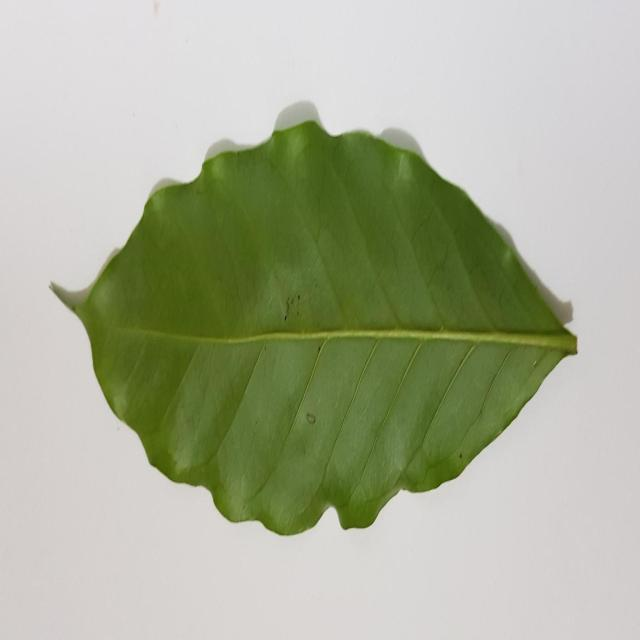nodisease: (51, 103, 577, 535)
